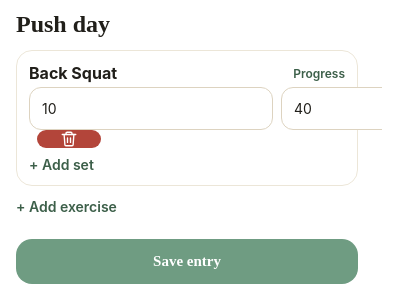
Scenario: JournalEntryScreen › deletes a set row
Click the button with test id "journal-entry-0-delete-0": (69, 139) [37, 130, 101, 148]
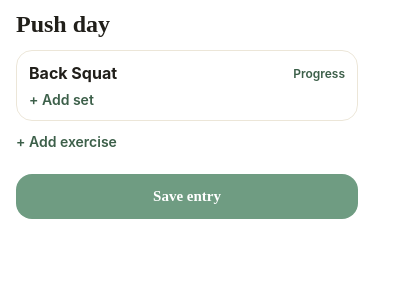
Expected: the field with test id "journal-entry-0-reps-0" is gone
